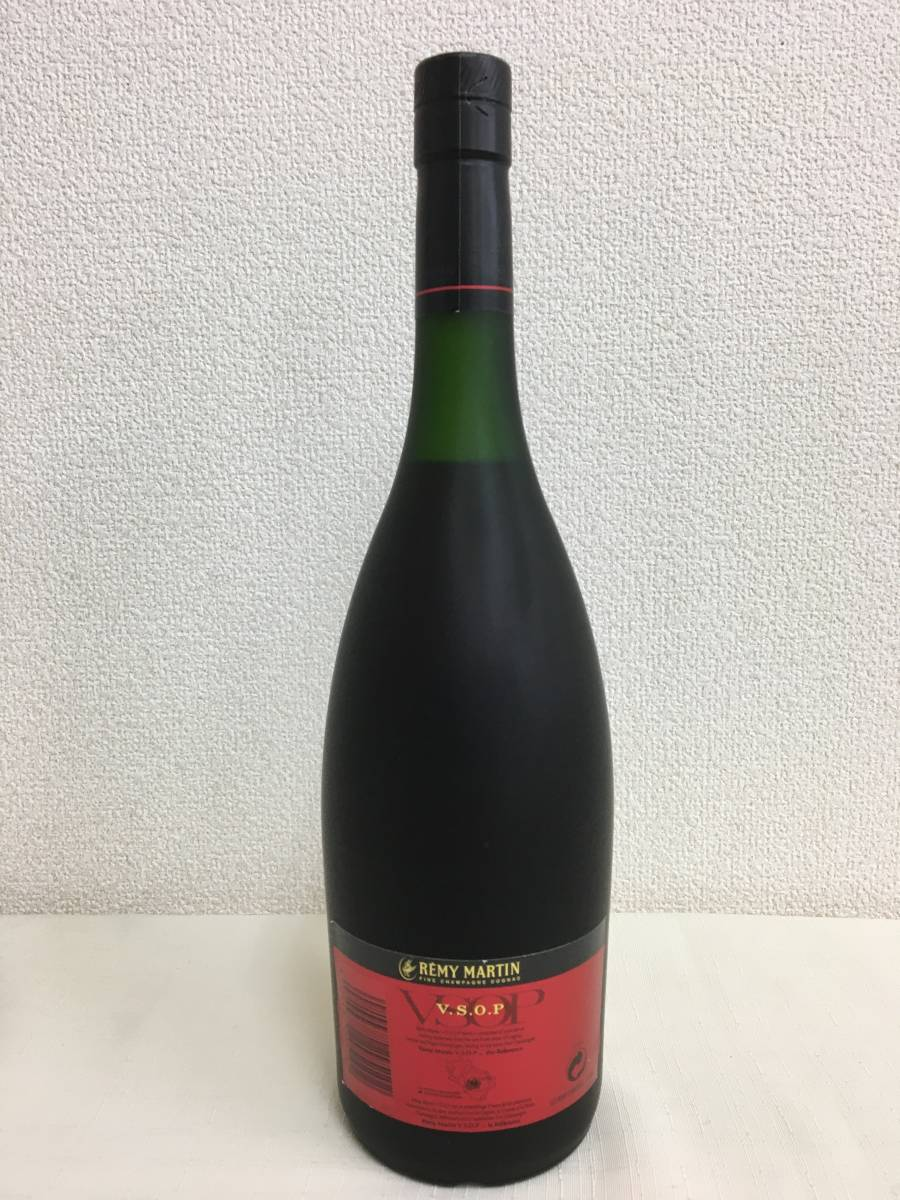Remy Martin: (290, 34, 635, 1200)
